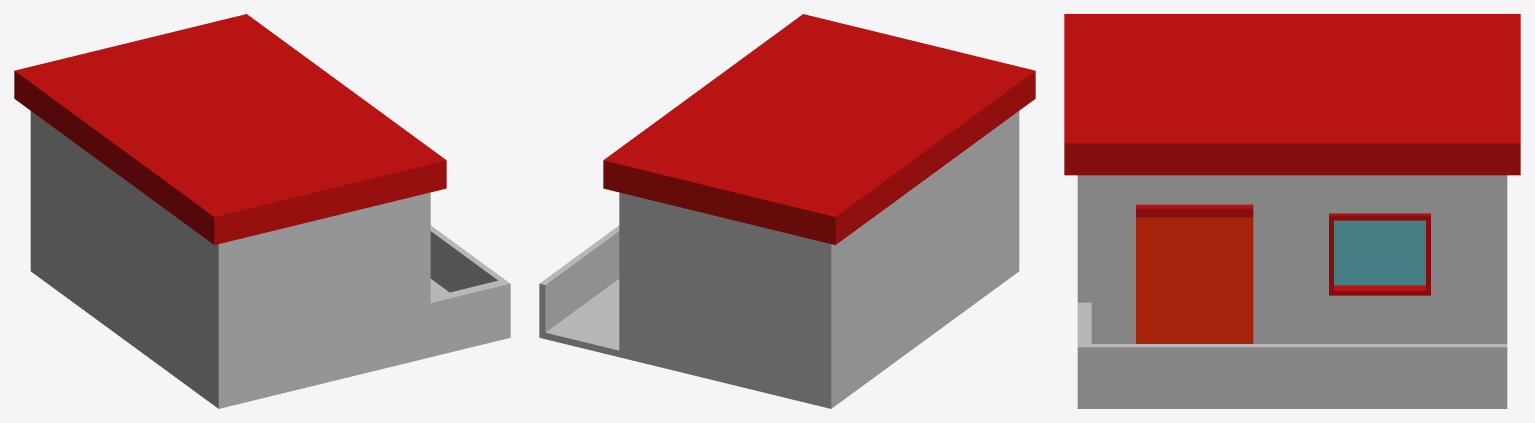
File: town-house-c.glb
3 renders of one model, left to right at view 1: azimuth 30°, elevation 25°; view 2: azimuth 150°, elevation 25°; view 3: azimuth 270°, elevation 25°, orthographic. The views are drawn at different scales.
Visible parts, largest first — view 1: Building_19; view 2: Building_19; view 3: Building_19.
Part boxes in pixels (box(x1,y1,x2,y2)): Building_19: box(14, 14, 510, 408); Building_19: box(539, 14, 1035, 408); Building_19: box(1064, 14, 1520, 408).
Bounding box in the file's own units: 4.77 × 3 × 5.47.
